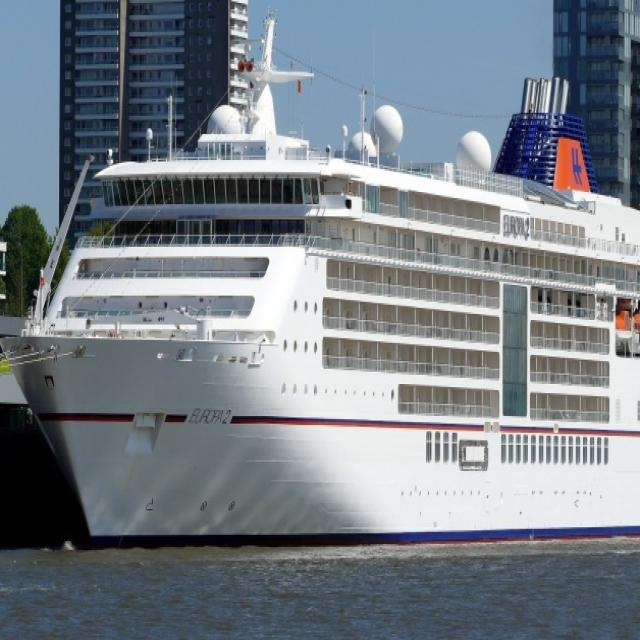cruises: (1, 28, 640, 562)
